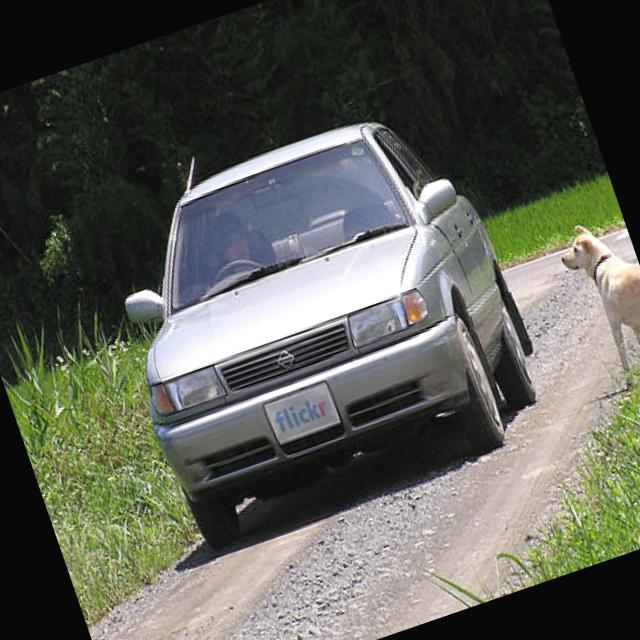Vehicle: (80, 96, 568, 558)
